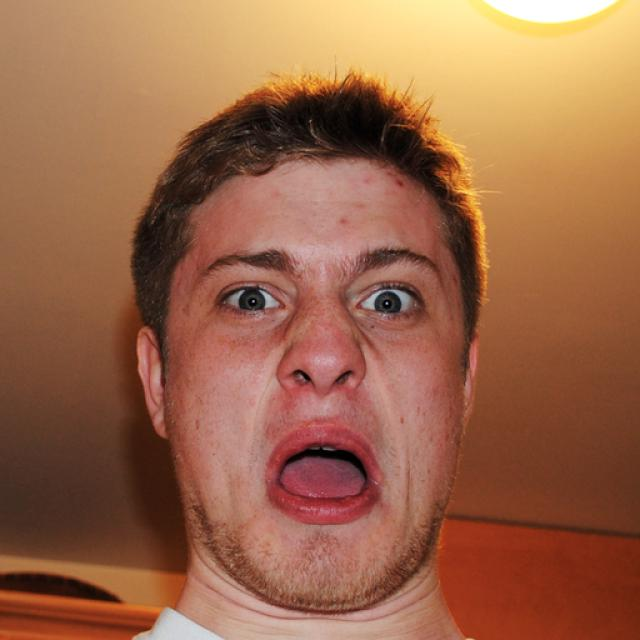Spots: (352, 171, 388, 190), (323, 213, 352, 236), (391, 410, 414, 432), (437, 427, 455, 446), (387, 176, 406, 193), (418, 434, 435, 449), (428, 386, 443, 400)
